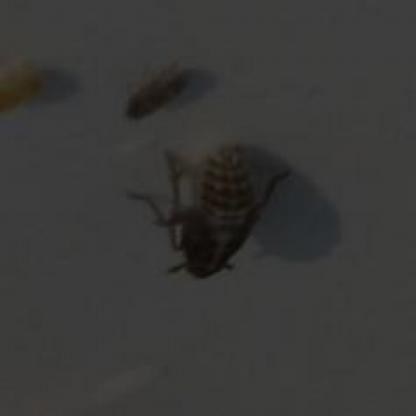brown-planthopper: (175, 140, 264, 284), (118, 61, 198, 120)
